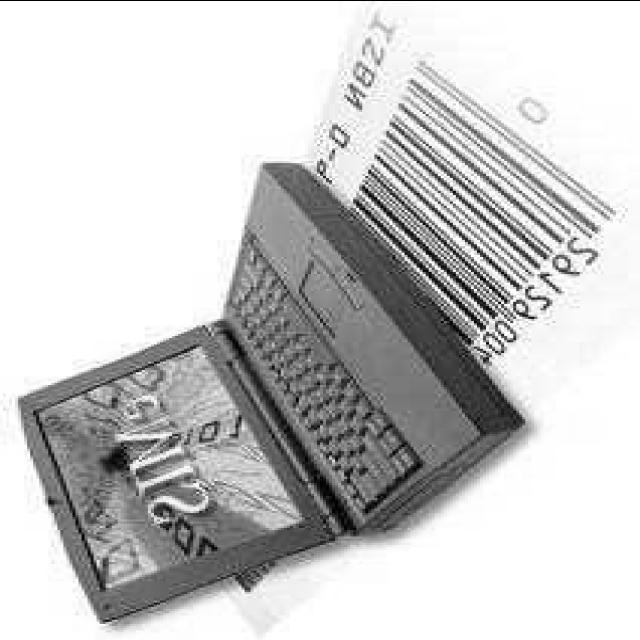laptop: (17, 224, 536, 618)
